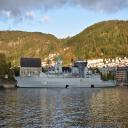Fragata: (14, 56, 118, 90)
